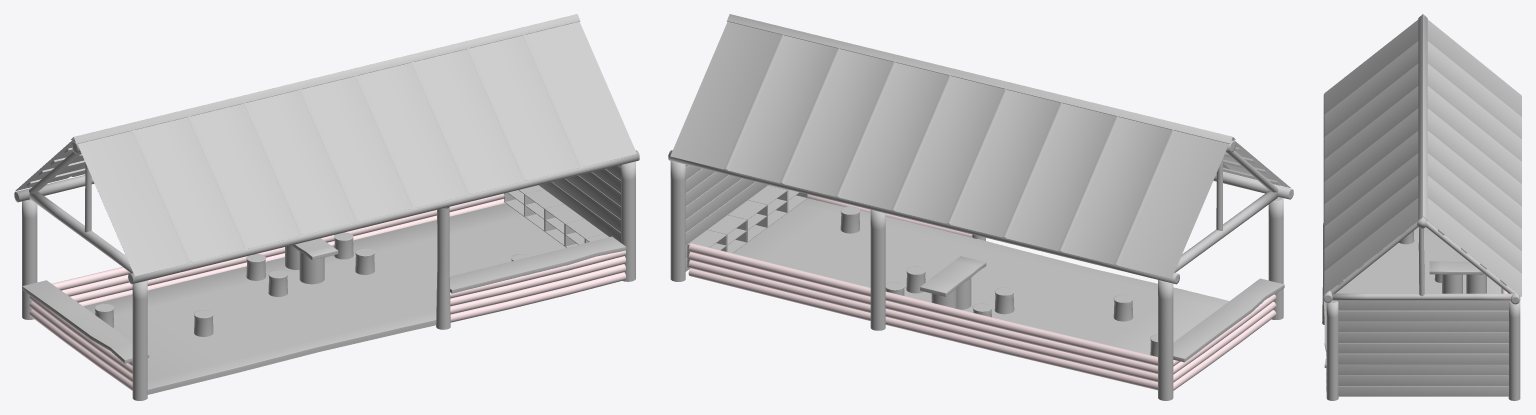
Rendered from wood cafe fianl re.obj.
The picture shows the model from 3 angles, left to right: view 1: azimuth 30°, elevation 25°; view 2: azimuth 150°, elevation 25°; view 3: azimuth 270°, elevation 25°; orthographic projection. The views are drawn at different scales.
Parts seen in each view (by area): view 1: roof_, base, wood_colume, side_cover_trunk_1, side_cover_trunk_and_wood_3, roof__SIDE_round_wood, table_and_seats, wall, side_cover_trunk__topwood__2, shelves, side_cover_trunk__top_wood_1, side_cover_trunk_2 (+2 smaller); view 2: roof_, base, side_cover_trunk_and_wood_3, wood_colume, wall, shelves, table_and_seats, roof__SIDE_round_wood, side_cover_trunk__top_wood_1, side_cover_trunk_2, roof_support_wood, table_top (+1 smaller); view 3: roof_, wall, base, roof_support_wood, wood_colume, table_and_seats, table_top, roof__SIDE_round_wood.
Part boxes in pixels (x1=…): roof_: x1=15, y1=14, x2=636, y2=276; base: x1=84, y1=203, x2=566, y2=394; wood_colume: x1=22, y1=161, x2=635, y2=400; side_cover_trunk_1: x1=450, y1=250, x2=625, y2=322; side_cover_trunk_and_wood_3: x1=52, y1=193, x2=505, y2=306; roof__SIDE_round_wood: x1=14, y1=150, x2=639, y2=284; table_and_seats: x1=94, y1=232, x2=529, y2=336; wall: x1=539, y1=165, x2=620, y2=242; side_cover_trunk__topwood__2: x1=449, y1=236, x2=626, y2=293; shelves: x1=504, y1=185, x2=608, y2=247; side_cover_trunk__top_wood_1: x1=22, y1=280, x2=149, y2=363; side_cover_trunk_2: x1=29, y1=295, x2=132, y2=390; roof_: x1=670, y1=14, x2=1290, y2=278; base: x1=733, y1=198, x2=1229, y2=354; side_cover_trunk_and_wood_3: x1=688, y1=243, x2=1157, y2=390; wood_colume: x1=670, y1=161, x2=1283, y2=400; wall: x1=685, y1=164, x2=768, y2=271; shelves: x1=687, y1=185, x2=807, y2=267; table_and_seats: x1=840, y1=206, x2=1157, y2=356; roof__SIDE_round_wood: x1=668, y1=150, x2=1293, y2=284; side_cover_trunk__top_wood_1: x1=1173, y1=278, x2=1284, y2=362; side_cover_trunk_2: x1=1173, y1=294, x2=1276, y2=390; roof_support_wood: x1=1174, y1=140, x2=1278, y2=272; table_top: x1=920, y1=256, x2=986, y2=296; roof_: x1=1324, y1=14, x2=1521, y2=296; wall: x1=1337, y1=300, x2=1510, y2=396; base: x1=1335, y1=220, x2=1500, y2=293; roof_support_wood: x1=1330, y1=217, x2=1514, y2=300; wood_colume: x1=1322, y1=223, x2=1520, y2=400; table_and_seats: x1=1399, y1=231, x2=1486, y2=293; table_top: x1=1429, y1=261, x2=1484, y2=274; roof__SIDE_round_wood: x1=1323, y1=94, x2=1519, y2=304.
Bounding box in the file's own units: 12.36 × 5.2 × 5.12.
